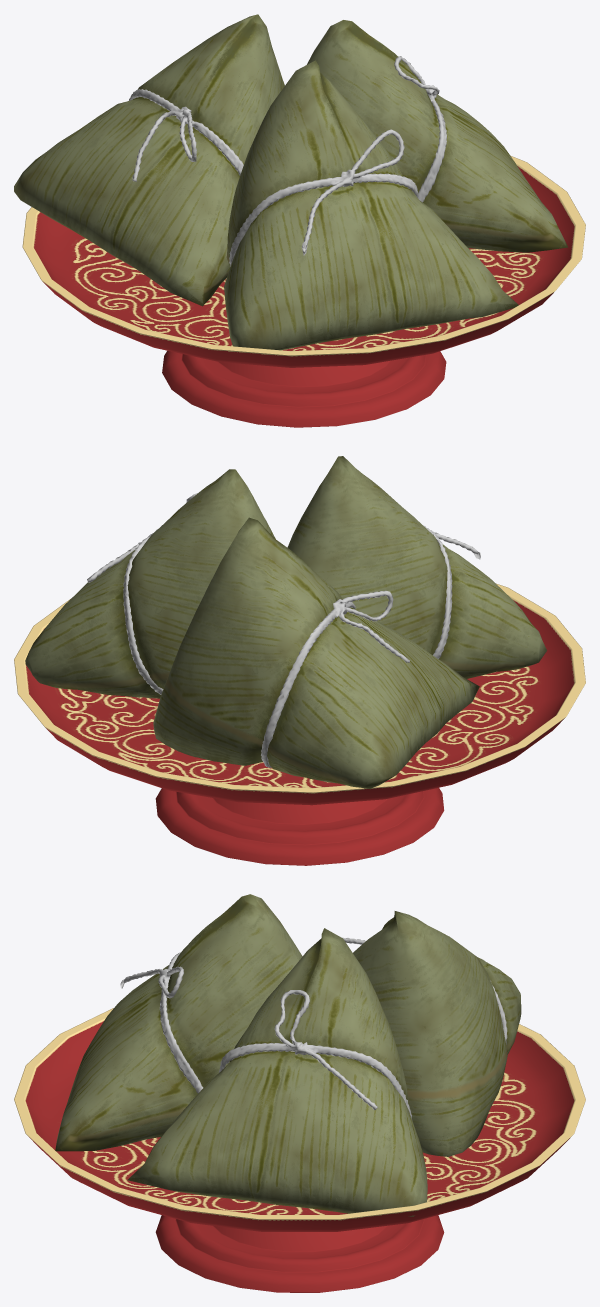
The model's file is RiceDumplingPlate.fbx.
3 renders of one model, top to bottom at view 1: azimuth 30°, elevation 25°; view 2: azimuth 150°, elevation 25°; view 3: azimuth 270°, elevation 25°, orthographic.
Visible parts, largest first — view 1: RiceDumpling, plate.001; view 2: RiceDumpling, plate.001; view 3: RiceDumpling, plate.001.
Part boxes in pixels (x1,y1,x2,y2): RiceDumpling: (14,14,568,350); plate.001: (22,155,585,427); RiceDumpling: (25,456,546,788); plate.001: (14,583,585,865); RiceDumpling: (55,894,521,1216); plate.001: (14,1008,585,1292).
Size of the model in its own units: 24.69 by 15.96 by 24.93.
